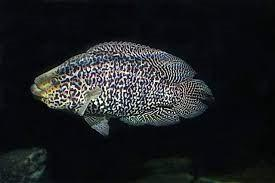Catfish: (30, 40, 213, 136)
